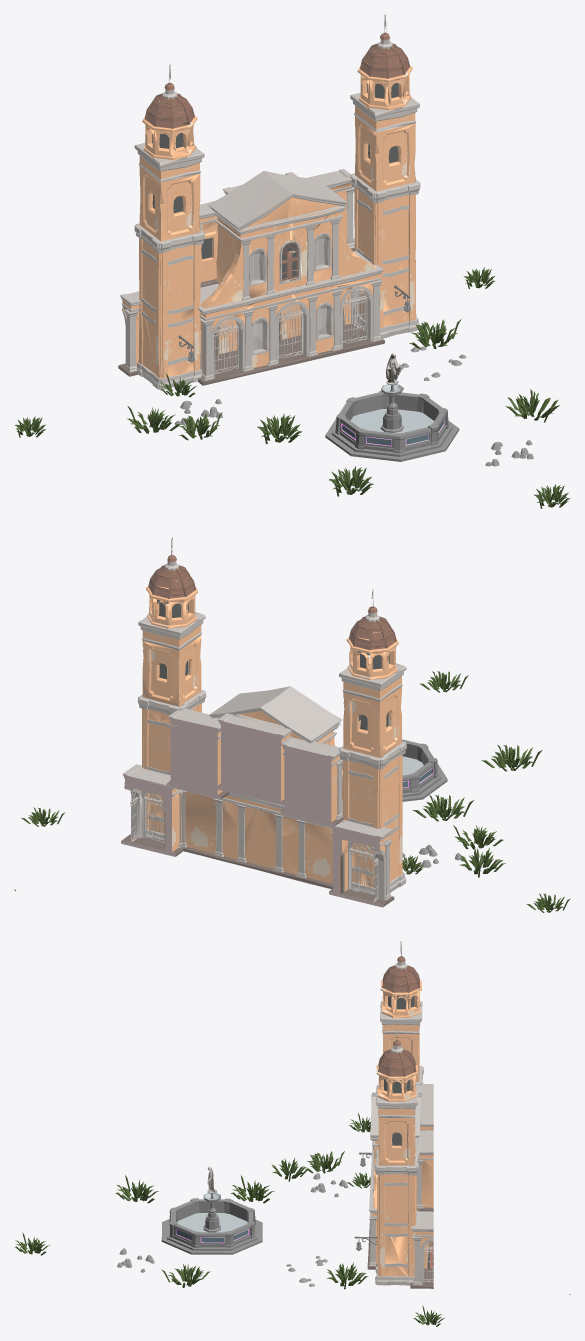
Rendered from fountain2.glb.
3 views of the same model, one above another, from view 1: azimuth 30°, elevation 25°; view 2: azimuth 150°, elevation 25°; view 3: azimuth 270°, elevation 25° (orthographic). The views are drawn at different scales.
Visible parts, largest first — view 1: SM_Bld_Cuba_Hall_Room_02_1.001, Fountain.001, Fountain.002, Grass.005, Grass.006, Grass.003, Grass.004, Grass.001; view 2: SM_Bld_Cuba_Hall_Room_02_1.001, Fountain.001, Grass.006, Grass.005, Grass.001, Grass, Grass.007; view 3: SM_Bld_Cuba_Hall_Room_02_1.001, Fountain.001, Fountain.002, Grass.005, Grass.006, Grass.003, Grass.004.
Boxes of the visible parts, box(x1,y1,x2,y2) form: SM_Bld_Cuba_Hall_Room_02_1.001: box(118, 14, 420, 389); Fountain.001: box(325, 380, 459, 461); Fountain.002: box(350, 380, 433, 433); Grass.005: box(329, 466, 373, 496); Grass.006: box(257, 413, 302, 443); Grass.003: box(409, 319, 461, 348); Grass.004: box(505, 389, 559, 422); Grass.001: box(127, 406, 181, 433); SM_Bld_Cuba_Hall_Room_02_1.001: box(15, 537, 406, 907); Fountain.001: box(342, 739, 447, 801); Grass.006: box(412, 794, 473, 821); Grass.005: box(481, 744, 542, 771); Grass.001: box(459, 847, 505, 877); Grass: box(453, 825, 503, 849); Grass.007: box(419, 671, 468, 692); SM_Bld_Cuba_Hall_Room_02_1.001: box(354, 941, 433, 1288); Fountain.001: box(161, 1190, 262, 1254); Fountain.002: box(177, 1190, 247, 1232); Grass.005: box(115, 1175, 158, 1203); Grass.006: box(231, 1175, 274, 1203); Grass.003: box(326, 1262, 368, 1289); Grass.004: box(161, 1264, 210, 1287).
Bounding box in the file's own units: 20.98 × 11.94 × 23.84.
9 materials, 3 textured.
